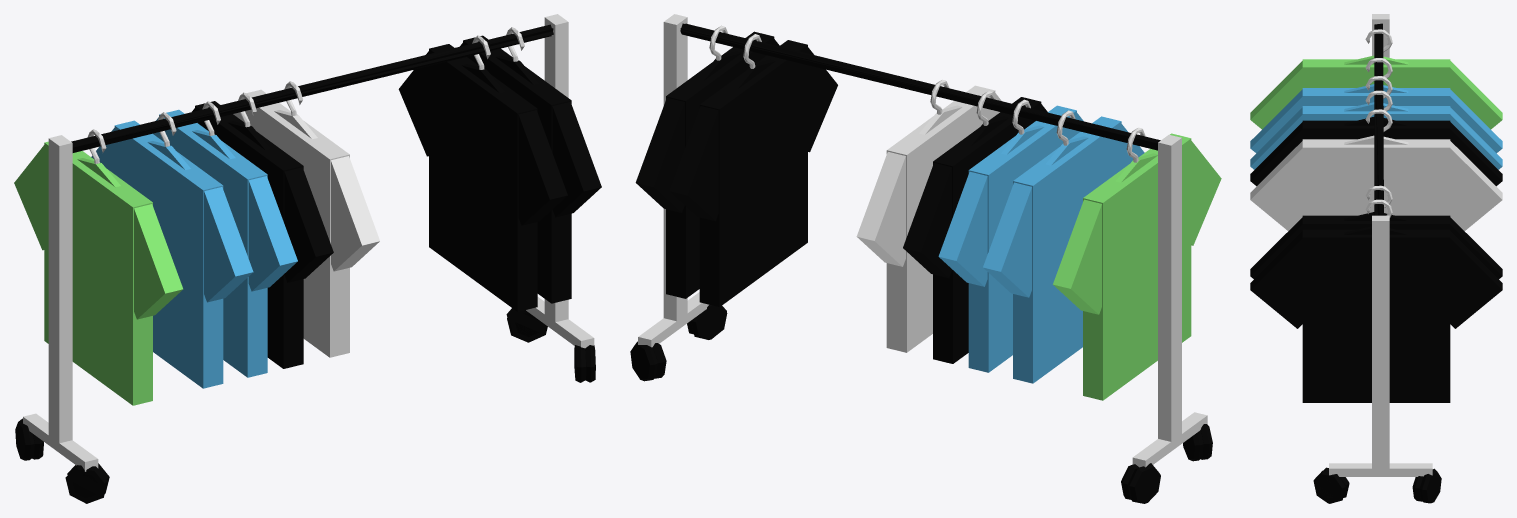
File: rack_0.fbx
3 renders of one model, left to right at view 1: azimuth 30°, elevation 25°; view 2: azimuth 150°, elevation 25°; view 3: azimuth 270°, elevation 25°, orthographic. The views are drawn at different scales.
Parts seen in each view (by area): view 1: Plane.008, Plane.013, Plane.011, Plane.007, Plane.010, Plane.006, Plane.009, Stand.R, Bar, Stand.L, Roll.R_1, Roll.L_2 (+2 smaller); view 2: Plane.008, Plane.013, Plane.011, Plane.007, Plane.010, Plane.006, Plane.009, Stand.R, Bar, Stand.L, Roll.R_2, Roll.L_2 (+2 smaller); view 3: Plane.009, Plane.007, Plane.013, Stand.L, Plane.006, Plane.011, Plane.010, Plane.008, Bar, Roll.L_1, Roll.L_2, Stand.R.
Part boxes in pixels (left/top/right/bottom): Plane.008: left=398, top=44, right=567, bottom=311; Plane.013: left=14, top=141, right=183, bottom=405; Plane.011: left=91, top=120, right=253, bottom=388; Plane.007: left=233, top=89, right=379, bottom=357; Plane.010: left=153, top=109, right=297, bottom=377; Plane.006: left=192, top=101, right=333, bottom=368; Plane.009: left=460, top=35, right=601, bottom=303; Stand.R: left=23, top=135, right=98, bottom=471; Bar: left=71, top=24, right=553, bottom=152; Stand.L: left=526, top=14, right=594, bottom=348; Roll.R_1: left=65, top=463, right=109, bottom=503; Roll.L_2: left=506, top=308, right=547, bottom=342; Plane.008: left=669, top=40, right=837, bottom=306; Plane.013: left=1053, top=133, right=1221, bottom=400; Plane.011: left=983, top=116, right=1144, bottom=383; Plane.007: left=856, top=85, right=1001, bottom=352; Plane.010: left=938, top=105, right=1083, bottom=372; Plane.006: left=903, top=97, right=1047, bottom=363; Plane.009: left=635, top=31, right=779, bottom=298; Stand.R: left=1132, top=134, right=1207, bottom=467; Bar: left=680, top=23, right=1160, bottom=150; Stand.L: left=638, top=14, right=708, bottom=347; Roll.R_2: left=1121, top=463, right=1160, bottom=503; Roll.L_2: left=630, top=341, right=666, bottom=381; Plane.009: left=1250, top=226, right=1502, bottom=402; Plane.007: left=1250, top=135, right=1502, bottom=231; Plane.013: left=1250, top=55, right=1502, bottom=129; Stand.L: left=1329, top=215, right=1432, bottom=476; Plane.006: left=1250, top=117, right=1502, bottom=186; Plane.011: left=1250, top=84, right=1502, bottom=153; Plane.010: left=1250, top=102, right=1502, bottom=169; Plane.008: left=1250, top=212, right=1502, bottom=278; Bar: left=1374, top=23, right=1383, bottom=215; Roll.L_1: left=1313, top=467, right=1349, bottom=503; Roll.L_2: left=1412, top=468, right=1441, bottom=503; Stand.R: left=1372, top=14, right=1389, bottom=57.
Size of the model in its own units: 561 by 346 by 276.
